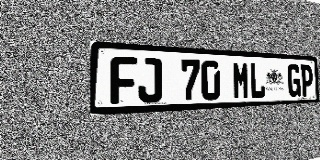0: (201, 60, 220, 101)
7: (180, 59, 201, 102)
F: (110, 56, 137, 104)
G: (287, 64, 301, 97)
J: (138, 57, 162, 103)
L: (249, 62, 265, 99)
M: (232, 61, 249, 99)
P: (301, 65, 313, 97)
